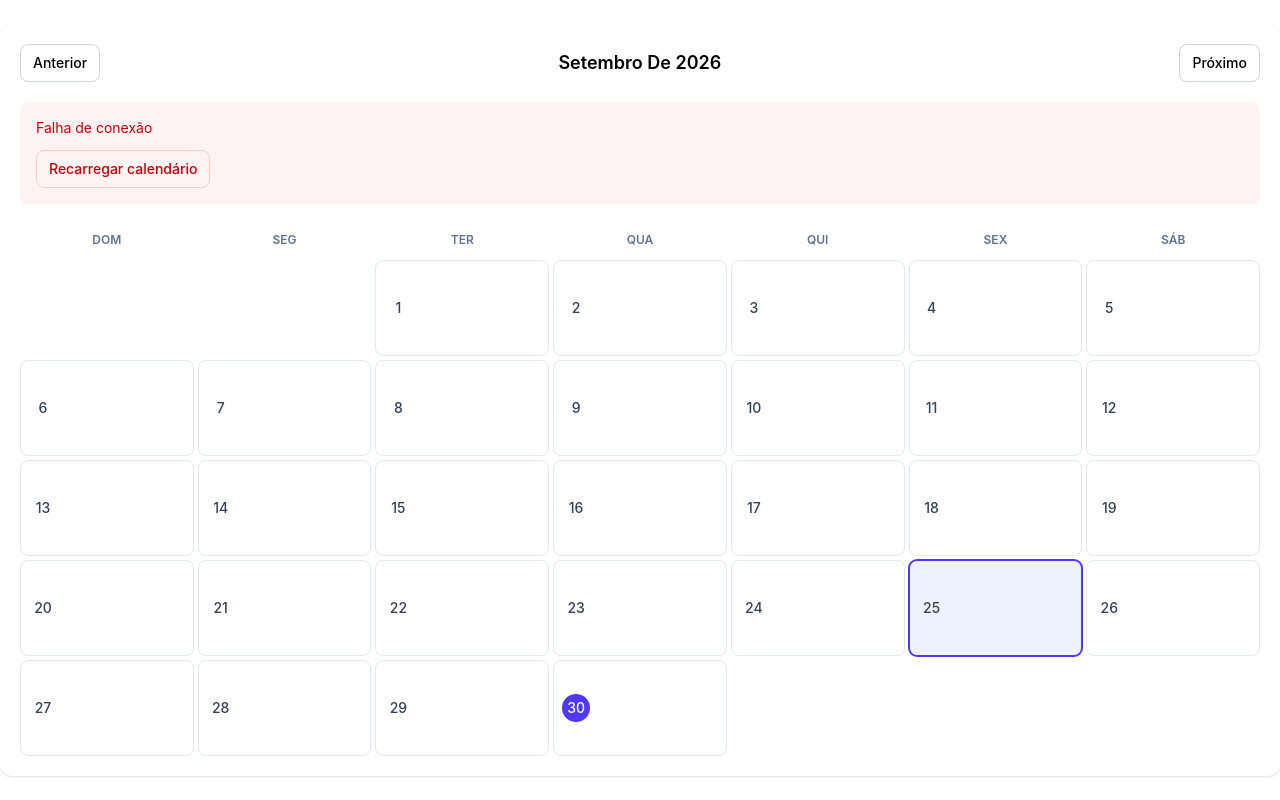
Test: MonthCalendar › recarrega o mesmo mês quando a consulta falha
Expected: the message "Falha de conexão" is shown, [36, 119, 152, 136]
Click the button "Recarregar calendário".
click(123, 169)  # box [36, 150, 210, 188]
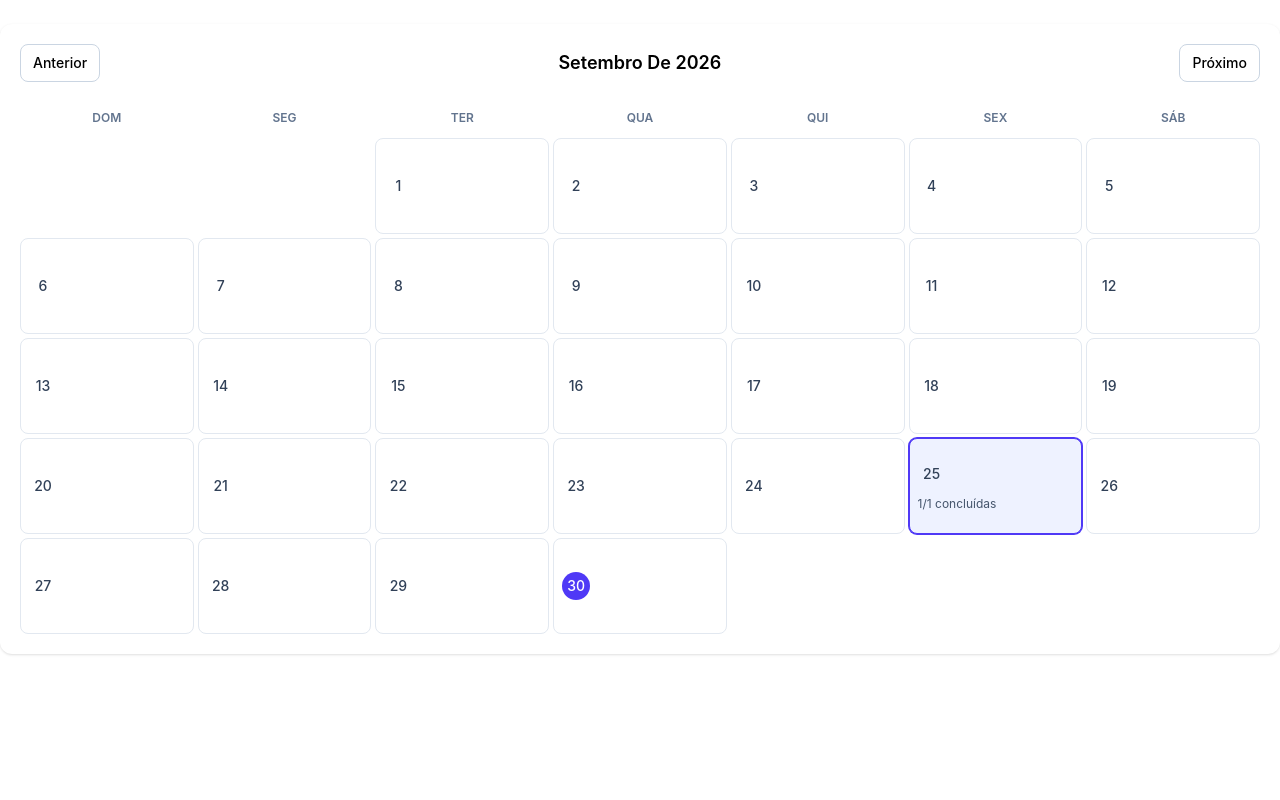
Now the text "1/1" is shown, box [918, 496, 996, 511]
Now the message "Falha de conexão" is gone
